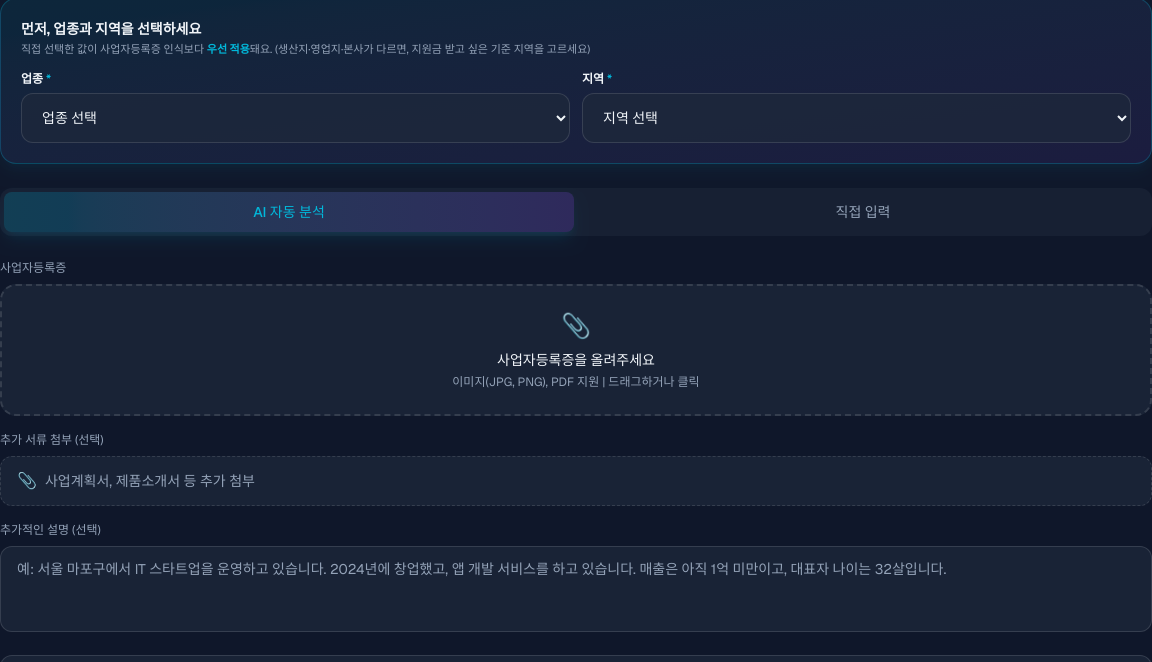
Test: ConditionForm: AI 분석 fetch › 분석 실패(네트워크 오류) 시 에러 메시지 노출
Replace the text in the text box with placeholder "서울 마포구에서 IT 스타트업" with "테스트": (576, 589) [0,546,1151,632]
(page scrolled)
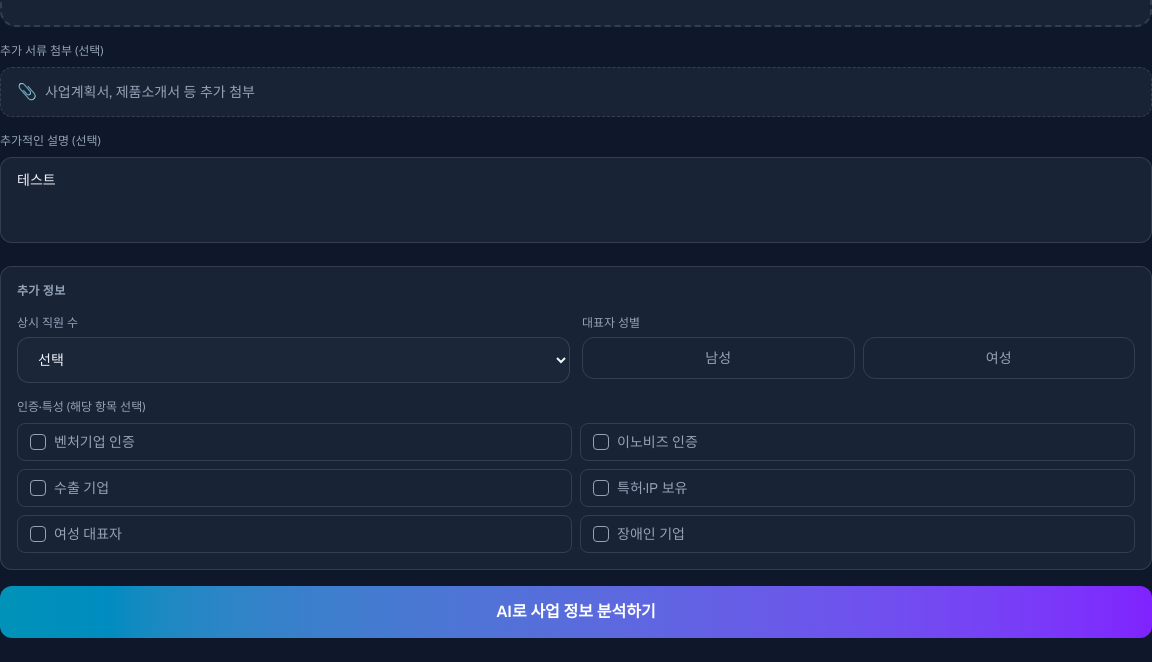
Click the button "AI로 사업 정보 분석하기": (576, 612) [0,586,1151,638]
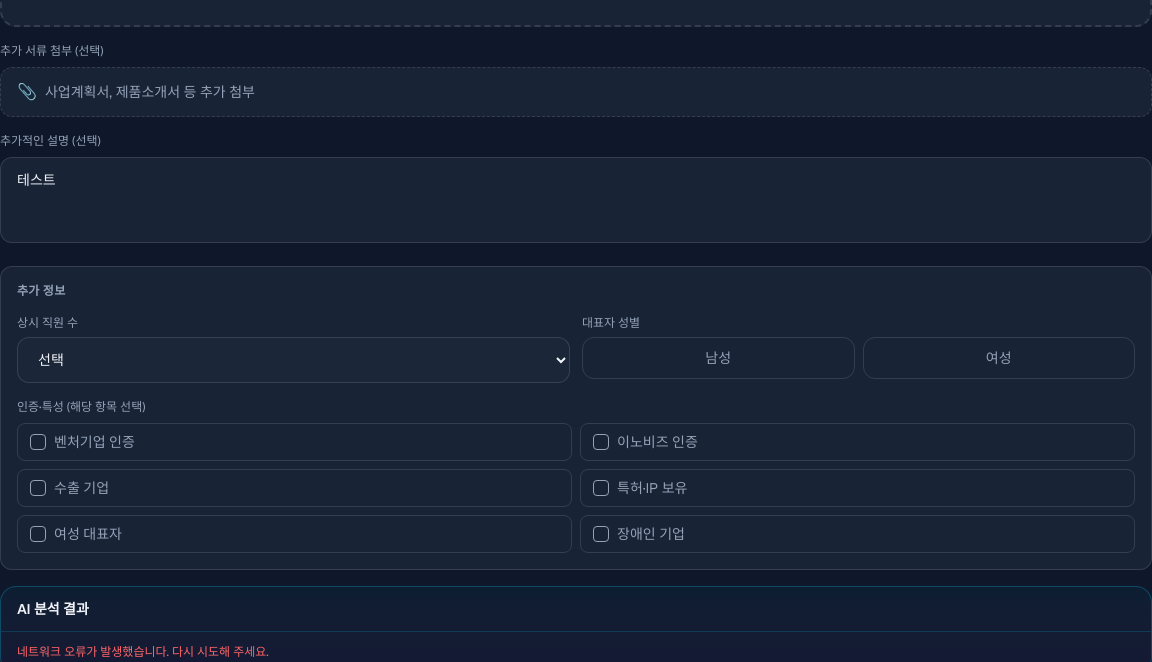
Expected: the text "네트워크 오류가 발생했습니다. 다시 시도해 주세요." is shown, [17,644,269,660]
